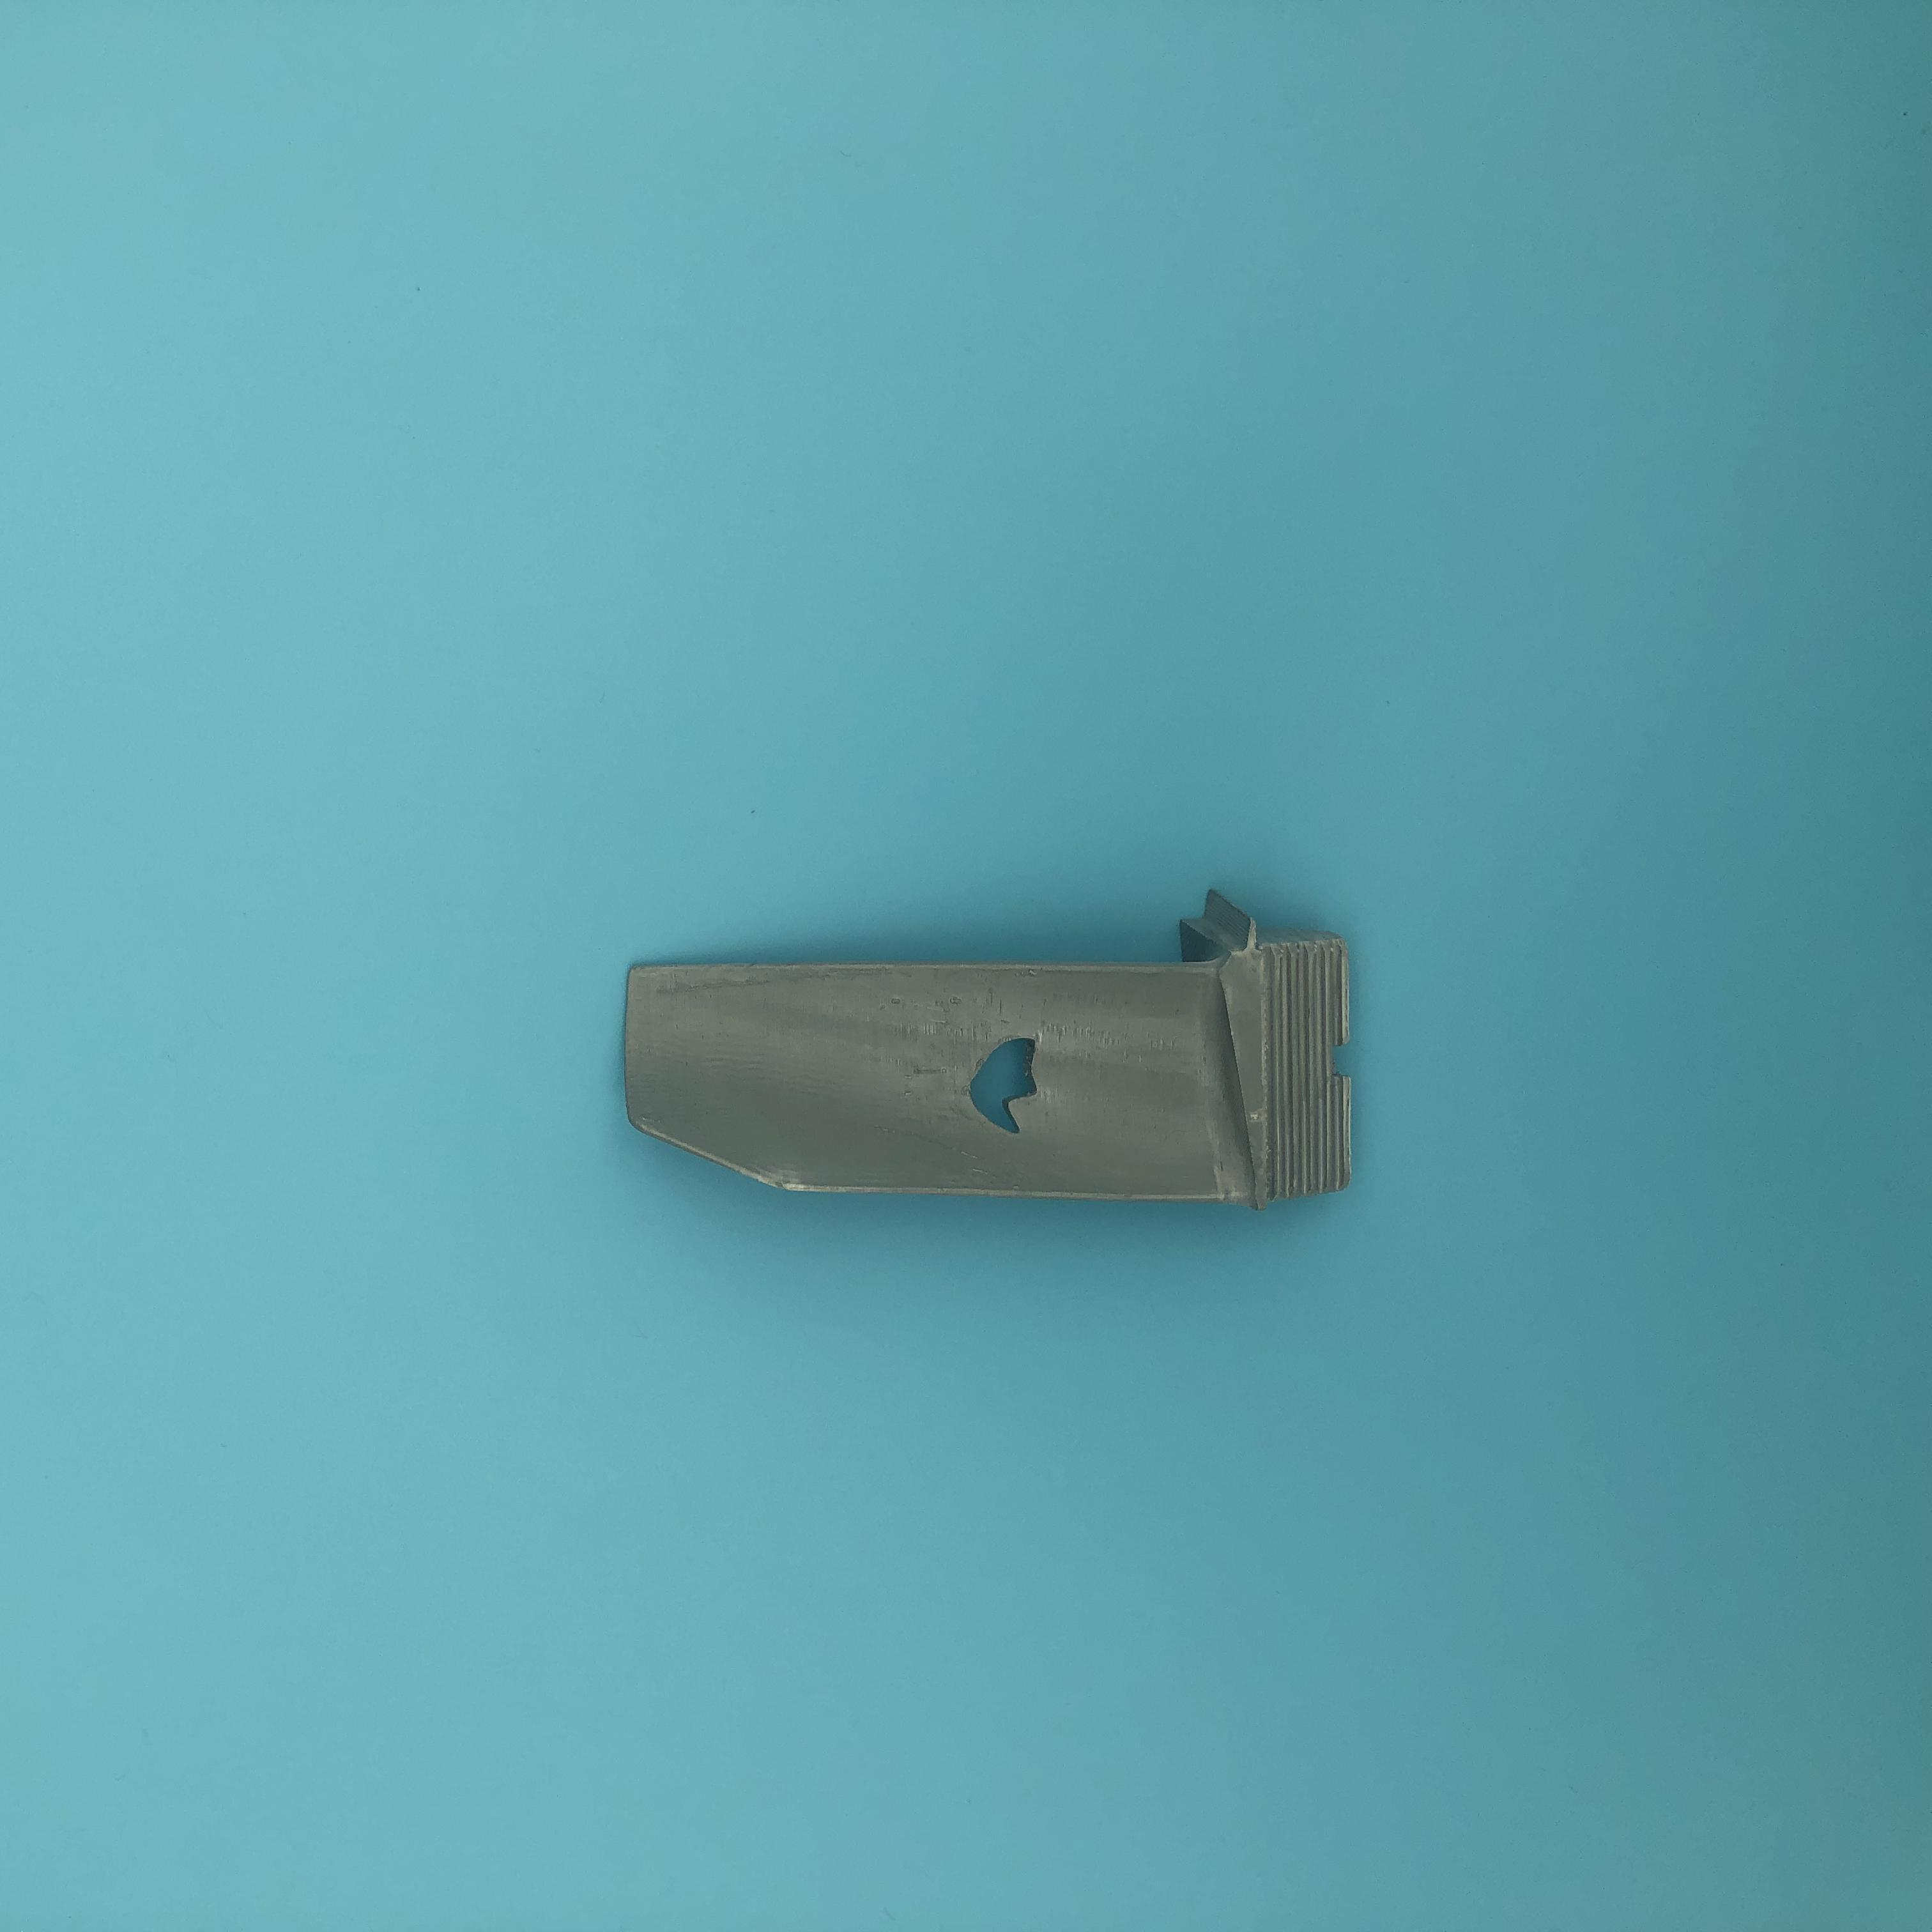breakdown: (962, 1023, 1060, 1134)
